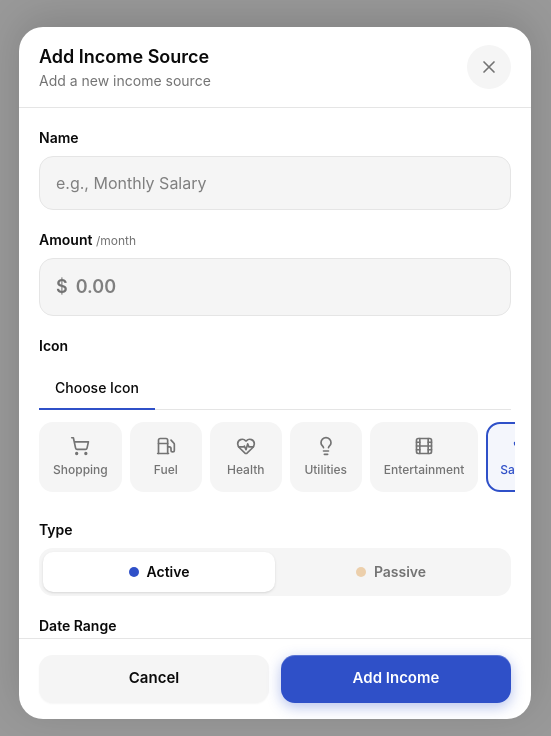
Scenario: IncomePopin — submit-reveal validation › keeps the save button enabled and reveals all field messages on an empty submit
Click the button "Add Income" at (396, 679), box [281,655,511,703]
(page scrolled)
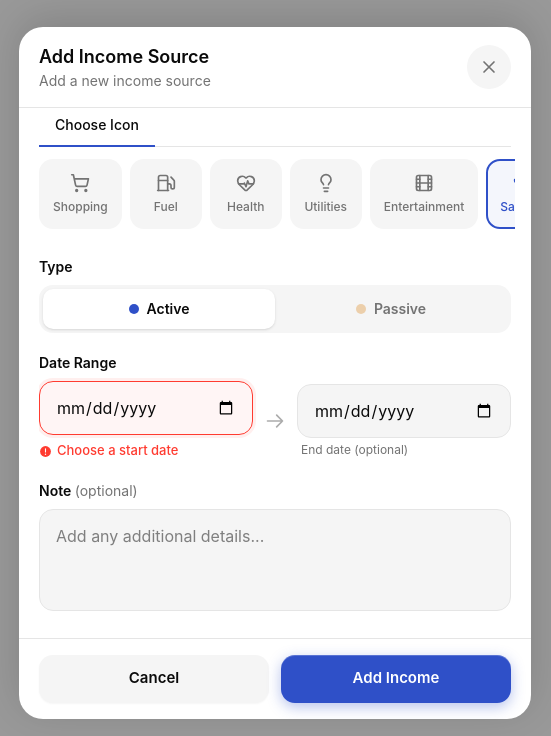
Now the text "Choose a start date" is shown, box [57,441,178,461]
